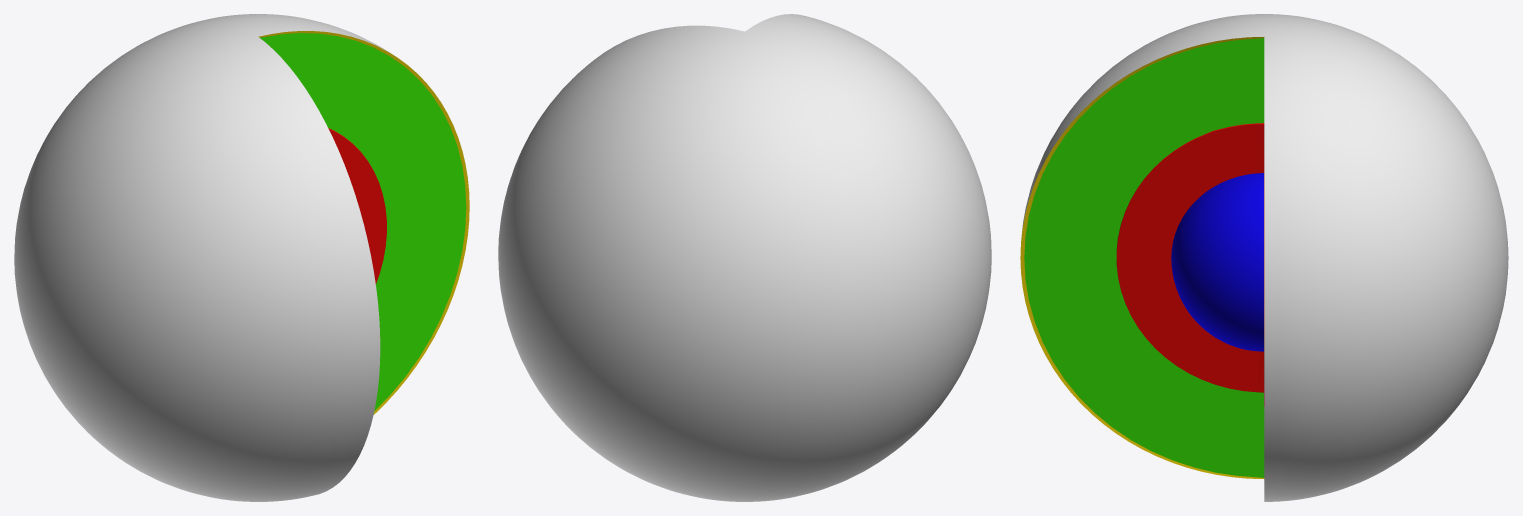
File: EarthQuarters.fbx
The picture shows the model from 3 angles, left to right: view 1: azimuth 30°, elevation 25°; view 2: azimuth 150°, elevation 25°; view 3: azimuth 270°, elevation 25°; orthographic projection.
Visible parts, largest first — view 1: EarthQuarter; view 2: EarthQuarter; view 3: EarthQuarter.
Part boxes in pixels (box(x1,y1,x2,y2)): EarthQuarter: box(14, 14, 469, 501); EarthQuarter: box(498, 14, 991, 501); EarthQuarter: box(1020, 14, 1508, 501).
Size of the model in its own units: 552 by 552 by 552.
